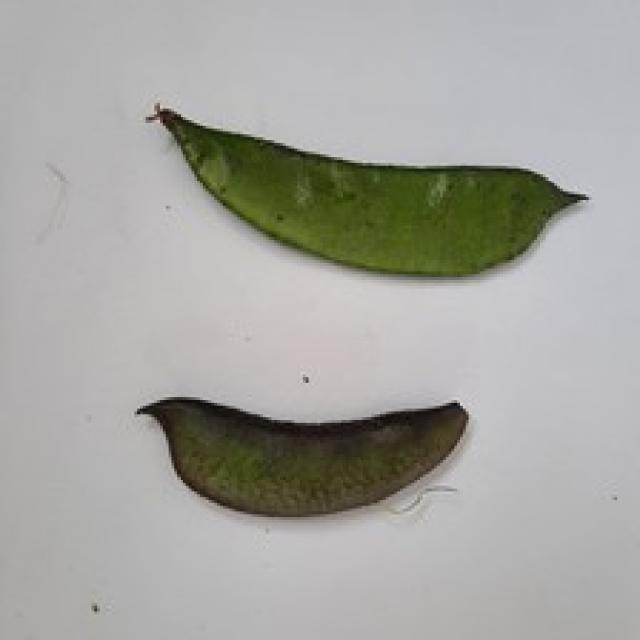Bean: (143, 100, 588, 277), (134, 392, 469, 517)
